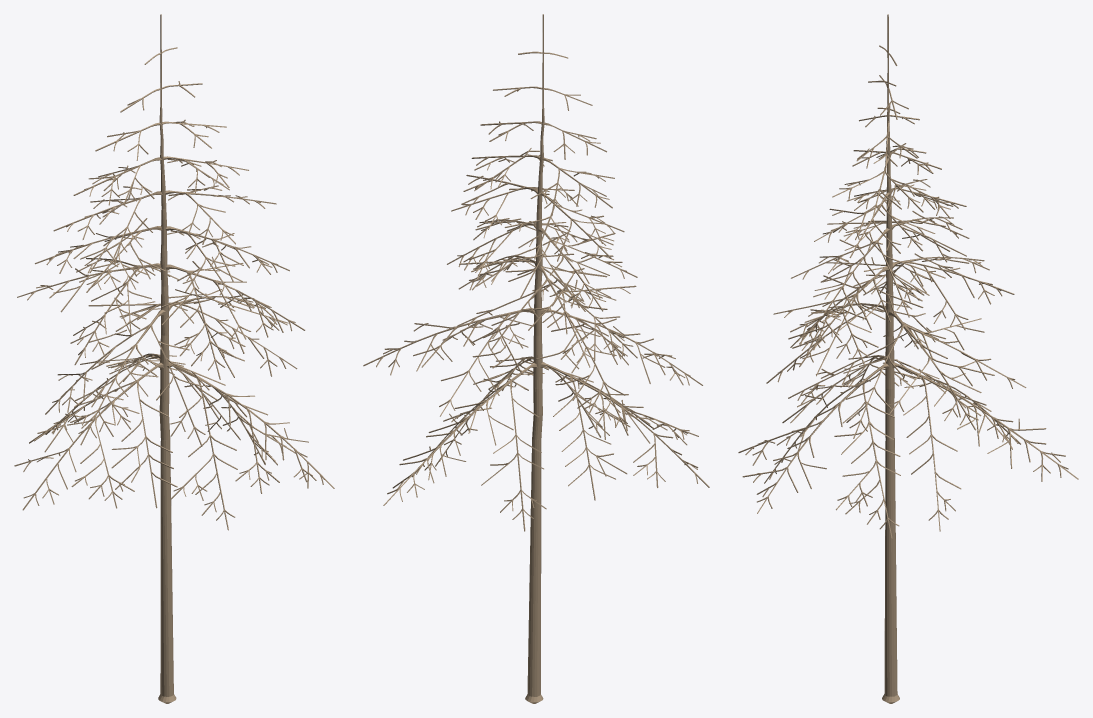
File: Silver_Fir_tree.fbx
3 renders of one model, left to right at view 1: azimuth 30°, elevation 25°; view 2: azimuth 150°, elevation 25°; view 3: azimuth 270°, elevation 25°, orthographic.
Parts seen in each view (by area): view 1: Silver Fir_tree_mesh; view 2: Silver Fir_tree_mesh; view 3: Silver Fir_tree_mesh.
Part boxes in pixels (x1,y1,x2,y2): Silver Fir_tree_mesh: (14, 14, 334, 703); Silver Fir_tree_mesh: (363, 14, 709, 703); Silver Fir_tree_mesh: (738, 14, 1078, 703).
Bounding box in the file's own units: 118 × 269 × 121.
